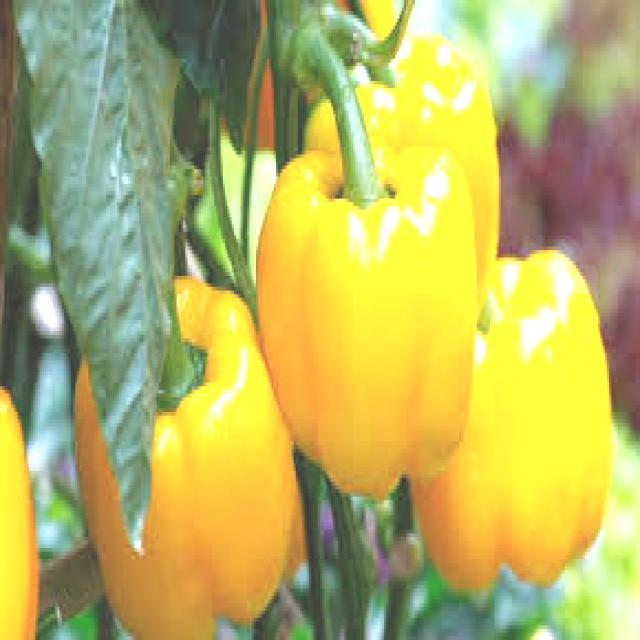carrot: (64, 274, 288, 634), (410, 250, 616, 590), (254, 146, 466, 476), (293, 24, 509, 298), (0, 374, 50, 640)
